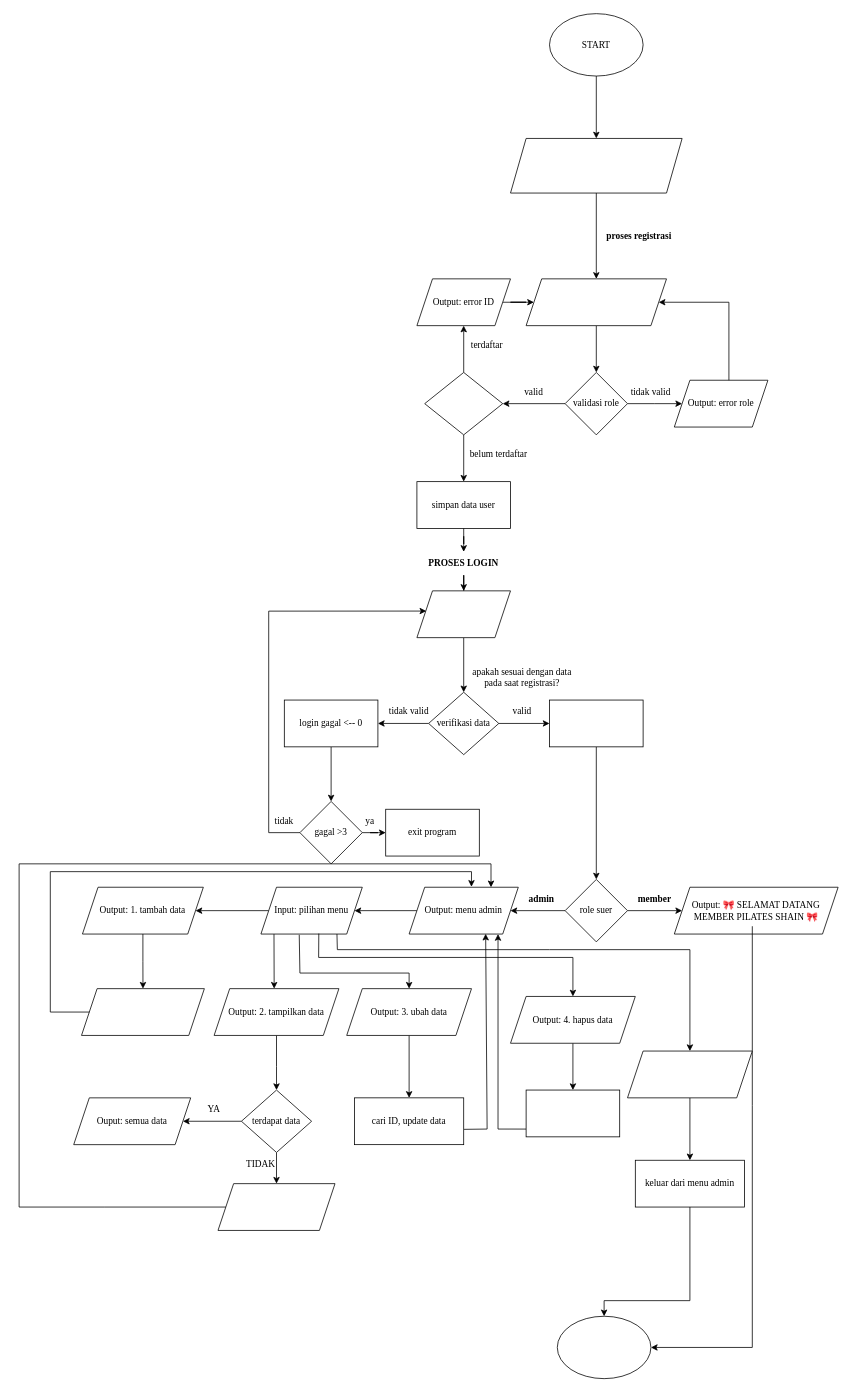
Some shapes in this 852 by 1392 pixel diagram are drawn without their labels. Here are the shapes that lost their labels. From the top down, the centre of each, then its label:
At point (596, 165): "Output: 🎀 SELAMAT DATANG DI STUDIO PILATES SHAIN 🎀".
At point (596, 302): "Input: ID, nama, usia, role, paket_pilates, durasi_membership".
At point (463, 403): "cek duplikasi ID".
At point (463, 614): "Input: login data".
At point (596, 723): "login berhasil".
At point (142, 1011): "Input: data member baru".
At point (689, 1074): "Output: 5. Keluar".
At point (572, 1113): "cari ID, hapus data".
At point (276, 1206): "Output: pesan kosong".
At point (604, 1347): "END".
